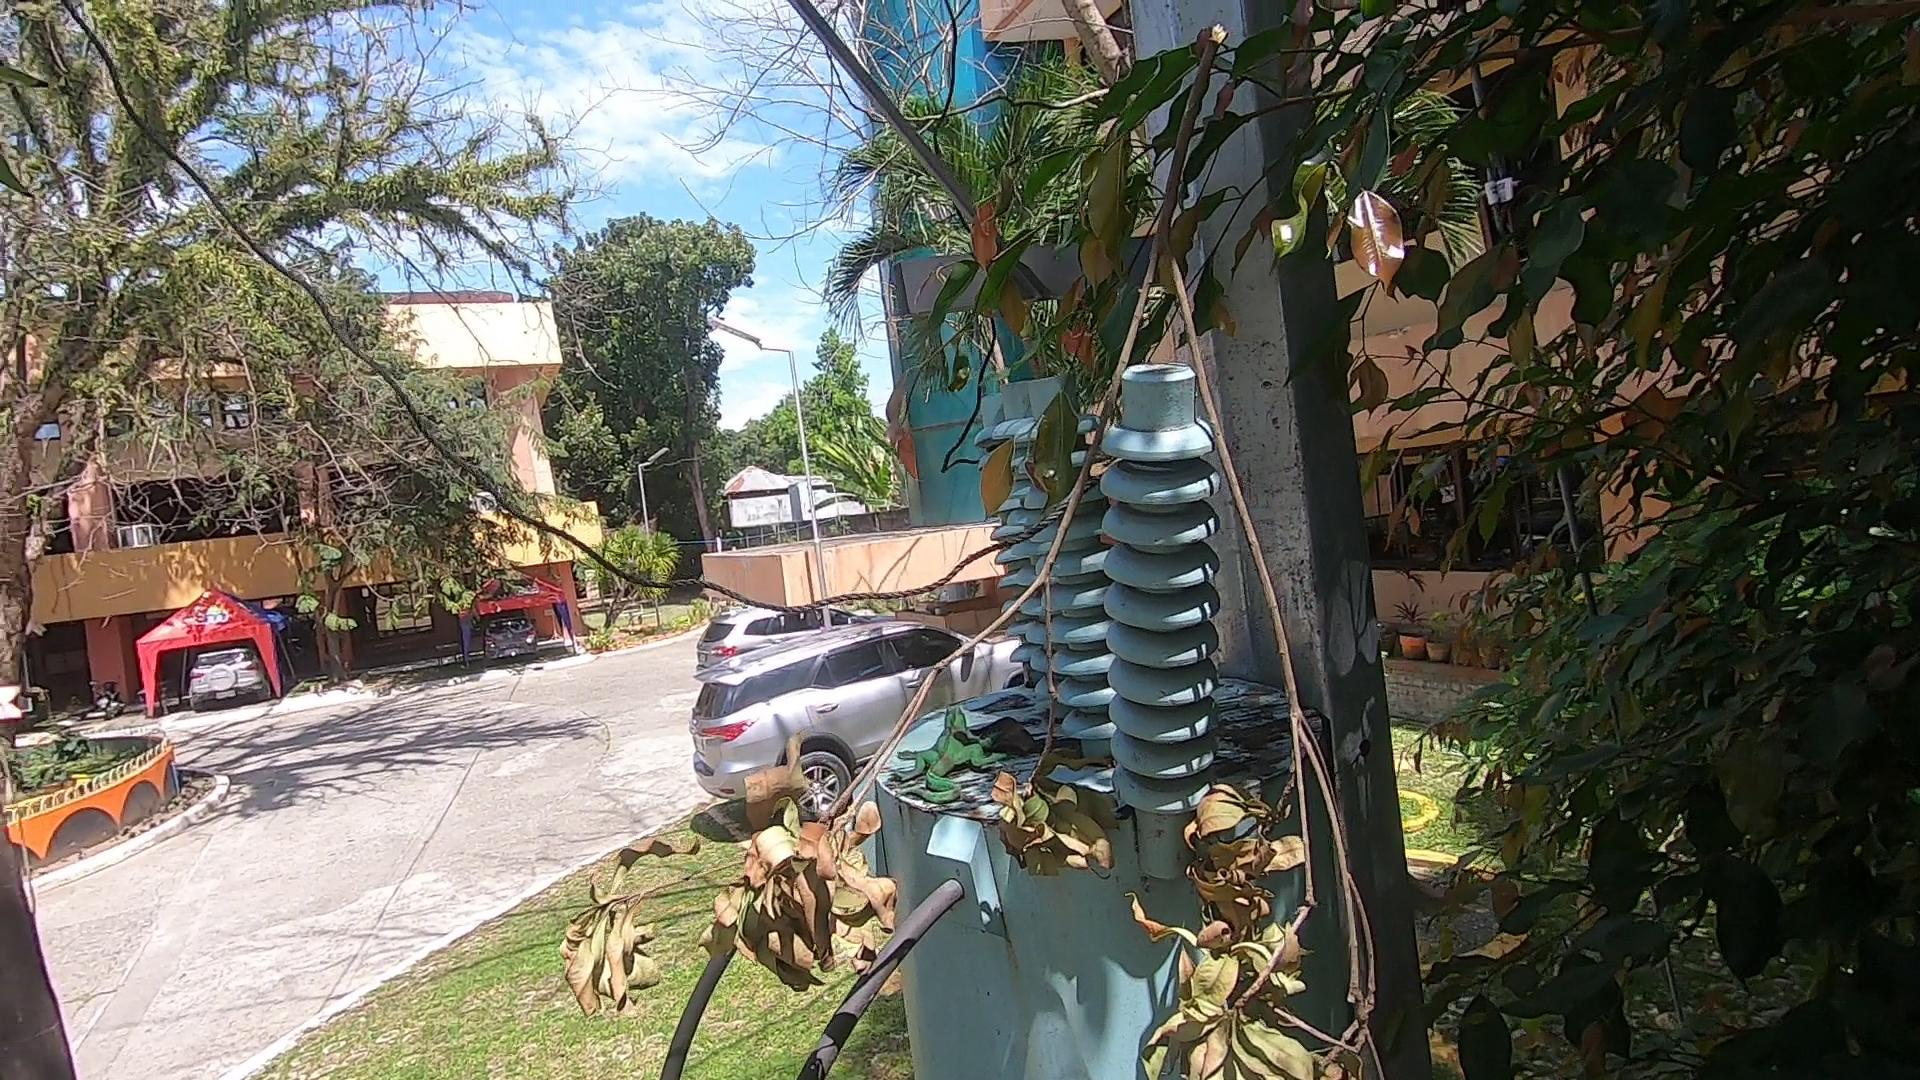branch with leaves: (543, 25, 1416, 1071)
leaf: (971, 700, 1033, 760)
